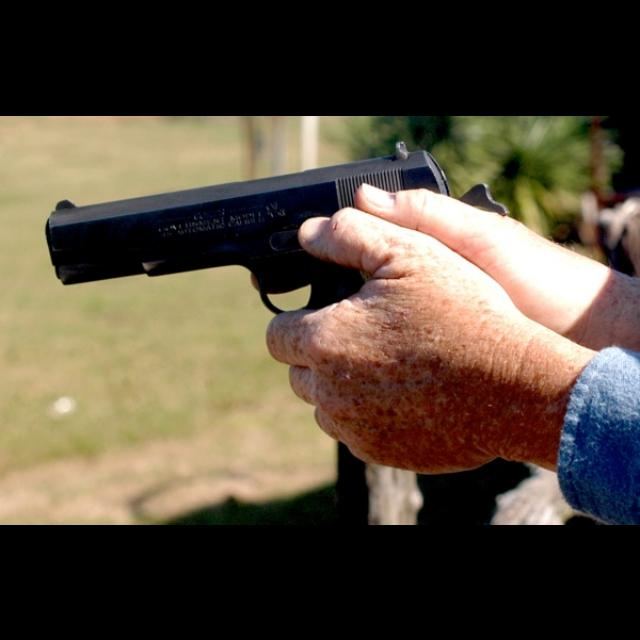handgun: (40, 138, 480, 334)
